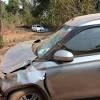bonnet-dent: (1, 36, 36, 71)
fender-dent: (0, 70, 47, 93)
